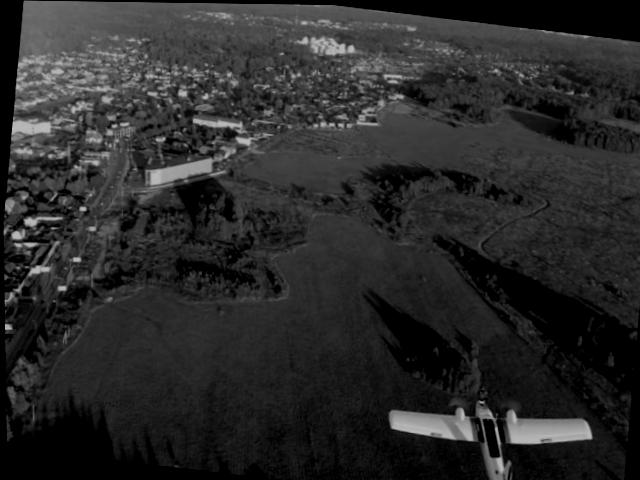hedef: (367, 372, 600, 480)
